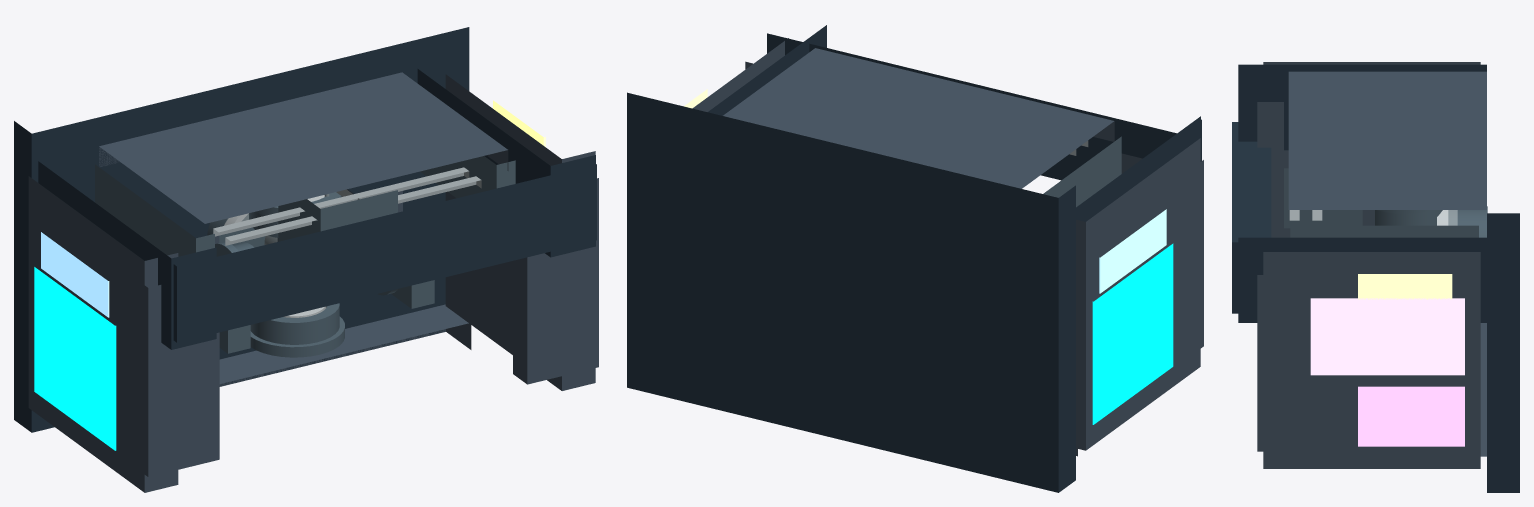
File: aig_6ax_machine_v9.glb
The picture shows the model from 3 angles, left to right: view 1: azimuth 30°, elevation 25°; view 2: azimuth 150°, elevation 25°; view 3: azimuth 270°, elevation 25°; orthographic projection. The views are drawn at different scales.
Parts seen in each view (by area): view 1: STATIC_BRIDGE, STATIC_BACK_WALL, STATIC_BED, STATIC_LEFT_SHELL, STATIC_RIGHT_TOP_CAP, STATIC_LEFT_TOP_CAP, RGB_LEFT_CYAN, STATIC_RIGHT_SHELL, STATIC_FRONT_PLINTH, STATIC_LEFT_COLUMN, STATIC_LEFT_INNER_WALL, STATIC_RIGHT_COLUMN (+9 smaller); view 2: STATIC_BED, STATIC_BACK_WALL, STATIC_LEFT_SHELL, RGB_LEFT_CYAN, STATIC_BRIDGE, STATIC_LEFT_TOP_CAP, STATIC_LEFT_COLUMN, RGB_LEFT_BLUE, STATIC_LEFT_INNER_WALL, STATIC_RIGHT_COLUMN, STATIC_RIGHT_SHELL; view 3: STATIC_BACK_WALL, STATIC_RIGHT_SHELL, RGB_RIGHT_VIOLET, STATIC_BED, RGB_RIGHT_PINK, STATIC_RIGHT_COLUMN, STATIC_RIGHT_TOP_CAP, STATIC_LEFT_COLUMN, STATIC_BRIDGE, STATIC_RIGHT_INNER_WALL, RGB_RIGHT_AMBER, STATIC_LEFT_TOP_CAP (+5 smaller).
Boxes of the visible parts, x1=… form: STATIC_BRIDGE: x1=173, y1=164, x2=596, y2=342; STATIC_BACK_WALL: x1=99, y1=72, x2=508, y2=223; STATIC_BED: x1=14, y1=27, x2=469, y2=432; STATIC_LEFT_SHELL: x1=28, y1=176, x2=178, y2=492; STATIC_RIGHT_TOP_CAP: x1=513, y1=178, x2=598, y2=384; STATIC_LEFT_TOP_CAP: x1=134, y1=285, x2=219, y2=476; RGB_LEFT_CYAN: x1=34, y1=267, x2=116, y2=450; STATIC_RIGHT_SHELL: x1=445, y1=74, x2=595, y2=390; STATIC_FRONT_PLINTH: x1=219, y1=304, x2=471, y2=386; STATIC_LEFT_COLUMN: x1=38, y1=161, x2=216, y2=349; STATIC_LEFT_INNER_WALL: x1=95, y1=164, x2=214, y2=256; STATIC_RIGHT_COLUMN: x1=417, y1=69, x2=595, y2=257; STATIC_BED: x1=627, y1=92, x2=1075, y2=492; STATIC_BACK_WALL: x1=723, y1=48, x2=1114, y2=188; STATIC_LEFT_SHELL: x1=1076, y1=138, x2=1200, y2=450; RGB_LEFT_CYAN: x1=1092, y1=243, x2=1173, y2=424; STATIC_BRIDGE: x1=767, y1=33, x2=1201, y2=180; STATIC_LEFT_TOP_CAP: x1=1121, y1=153, x2=1203, y2=355; STATIC_LEFT_COLUMN: x1=1076, y1=116, x2=1200, y2=221; RGB_LEFT_BLUE: x1=1099, y1=209, x2=1166, y2=293; STATIC_LEFT_INNER_WALL: x1=1043, y1=136, x2=1121, y2=207; STATIC_RIGHT_COLUMN: x1=708, y1=25, x2=826, y2=115; STATIC_RIGHT_SHELL: x1=692, y1=38, x2=788, y2=111; STATIC_BACK_WALL: x1=1288, y1=71, x2=1486, y2=209; STATIC_RIGHT_SHELL: x1=1263, y1=252, x2=1480, y2=468; RGB_RIGHT_VIOLET: x1=1310, y1=298, x2=1464, y2=375; STATIC_BED: x1=1487, y1=213, x2=1519, y2=492; RGB_RIGHT_PINK: x1=1358, y1=386, x2=1464, y2=446; STATIC_RIGHT_COLUMN: x1=1238, y1=237, x2=1486, y2=322; STATIC_RIGHT_TOP_CAP: x1=1257, y1=275, x2=1283, y2=451; STATIC_LEFT_COLUMN: x1=1238, y1=64, x2=1486, y2=150; STATIC_BRIDGE: x1=1232, y1=122, x2=1271, y2=313; STATIC_RIGHT_INNER_WALL: x1=1290, y1=225, x2=1478, y2=237; RGB_RIGHT_AMBER: x1=1358, y1=274, x2=1452, y2=299; STATIC_LEFT_TOP_CAP: x1=1257, y1=102, x2=1283, y2=237.
Size of the model in its own units: 1552 by 980 by 915.
